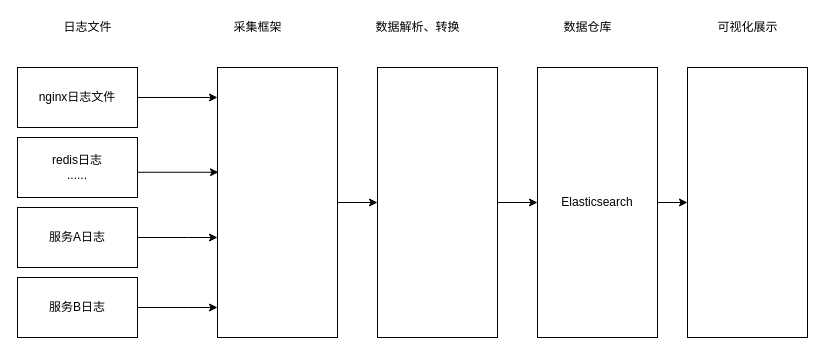
The diagram is 825 pixels wide and 355 high, and some of its shapes have lost their labels. Here are the shapes that lost their labels. From the top down, the centre of each, then its label:
At pixel 277 202: "Filebeat".
At pixel 437 202: "Logstash".
At pixel 747 202: "Kibana".
